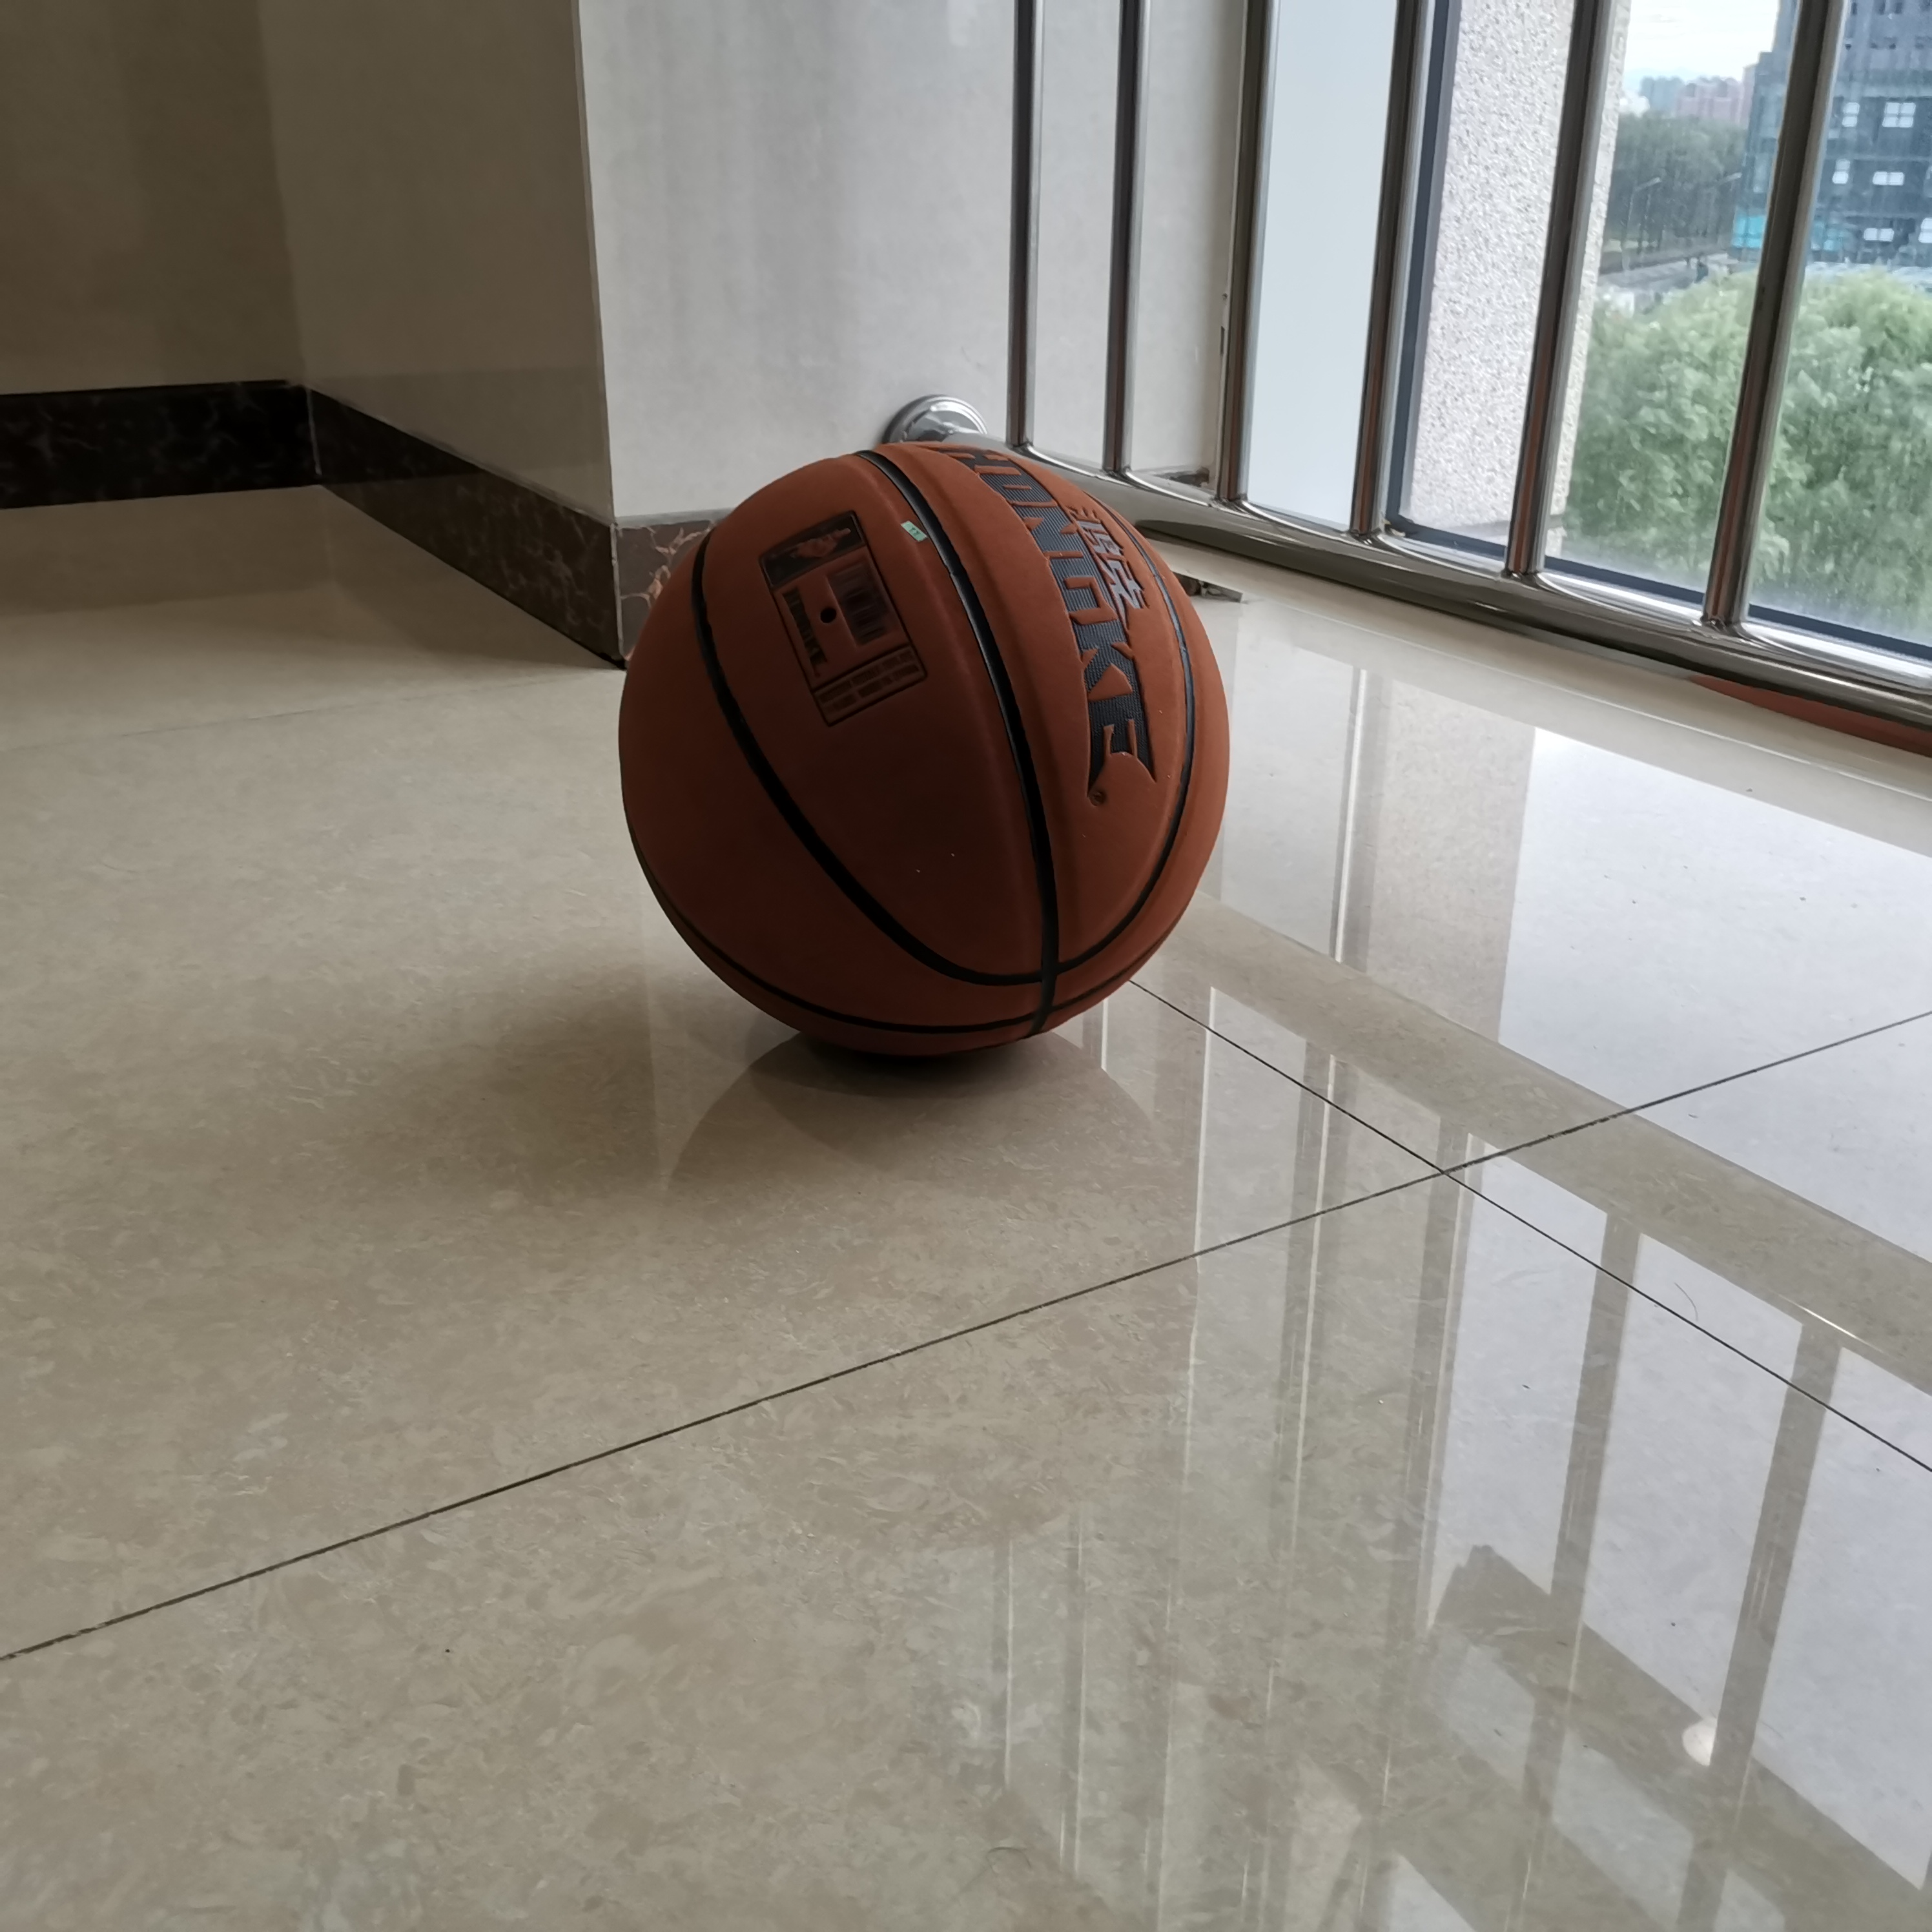basketball: (619, 448, 1231, 1058)
